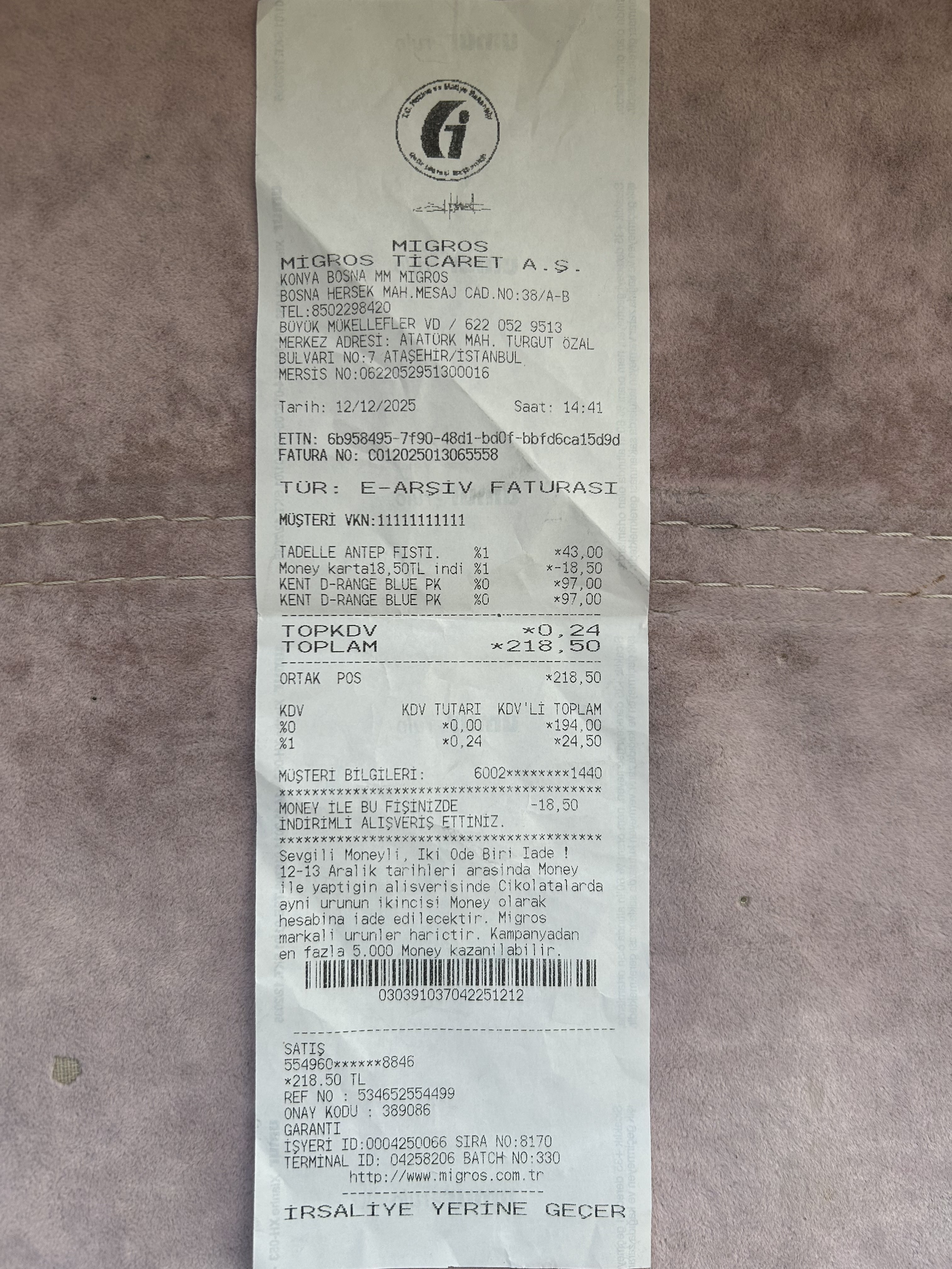date: (501, 635, 606, 655)
price: (329, 395, 423, 417)
workplace: (269, 235, 592, 303)
